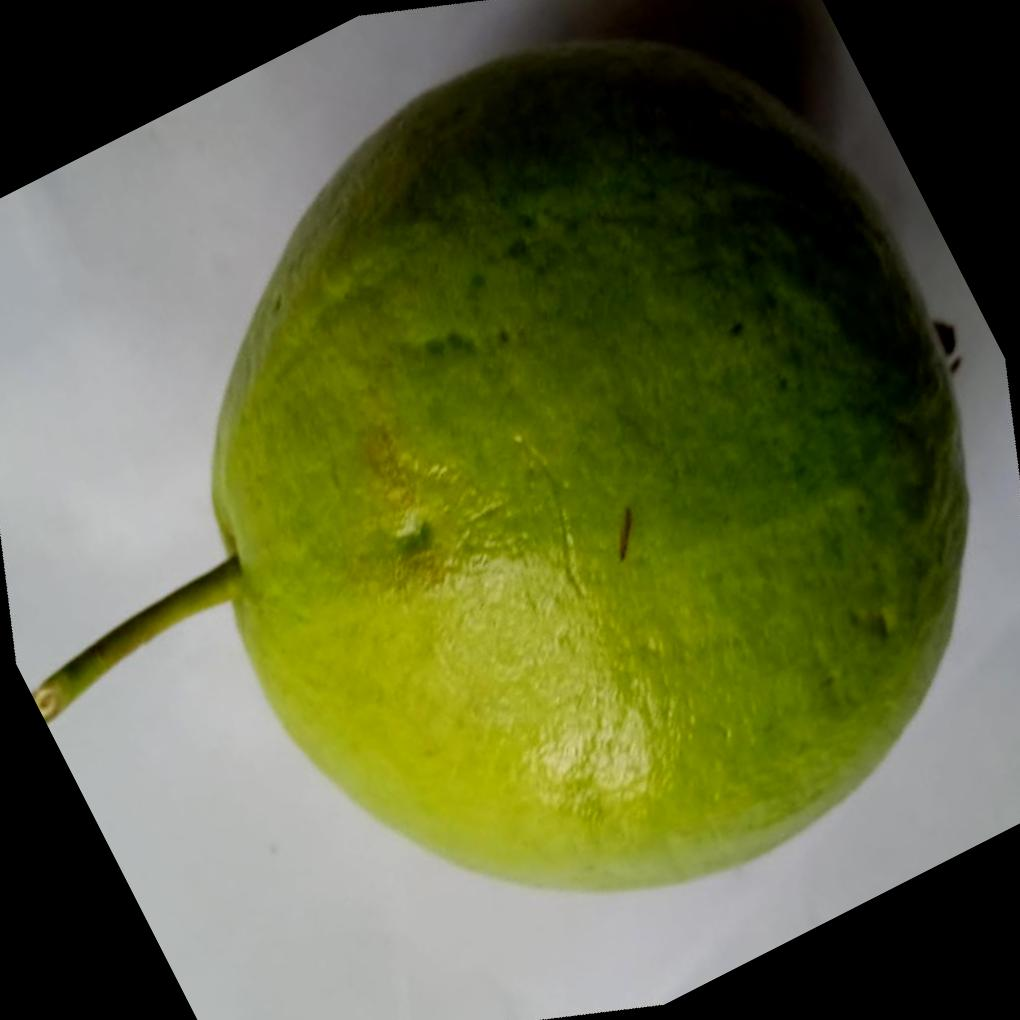FreshGuava: (210, 39, 973, 898)
